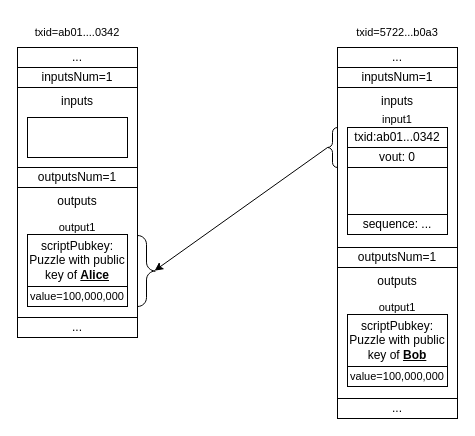
Some shapes in this 475 by 436 pixel diagram are drawn without their labels. The shapes that lost their labels are listed below. From the top down, each one's centre as x and y in pixels, then its label:
At pixel 77 137: "input1.....".
At pixel 397 192: "scriptSig: signautre of Alice".
